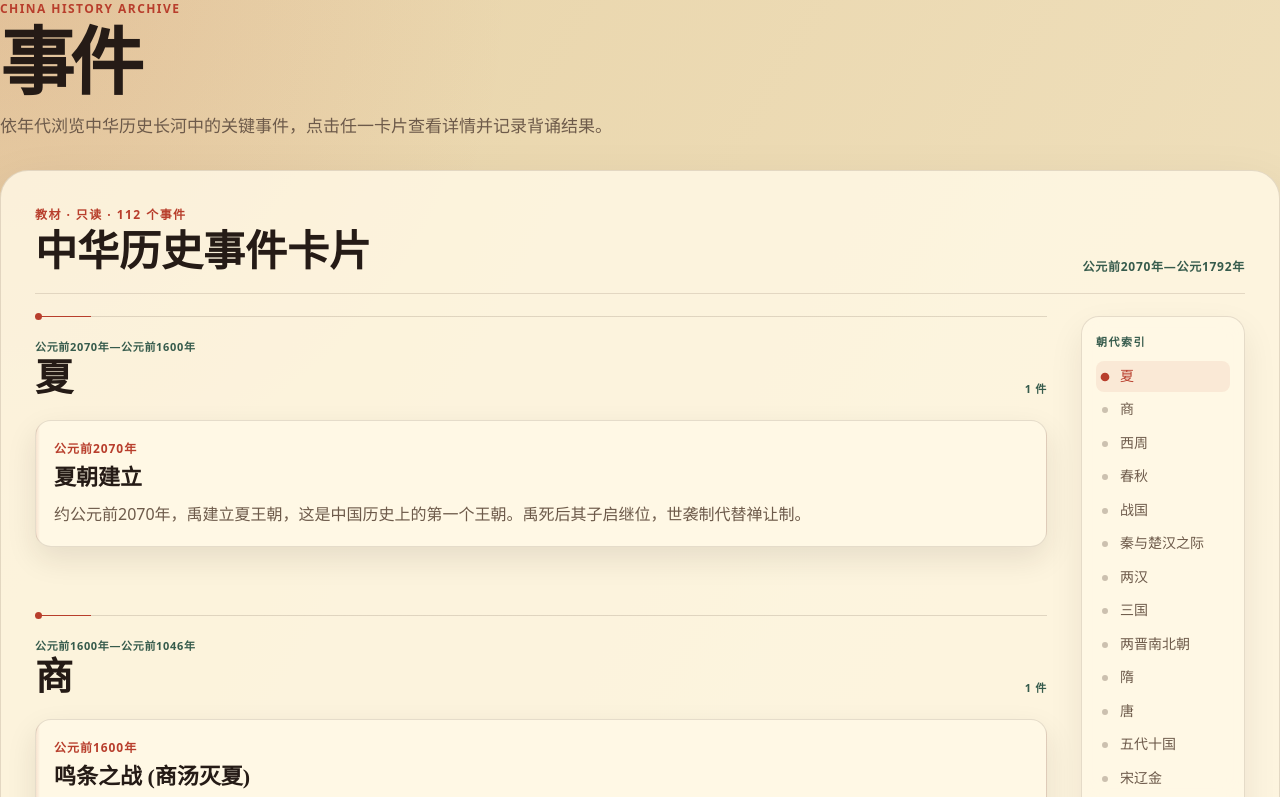
Test: EventListPage › 在详情中背诵事件并写入共享学习记录
The image size is (1280, 797).
Click the link that starts with "公元前2070年": (541, 483) [35,420,1047,547]
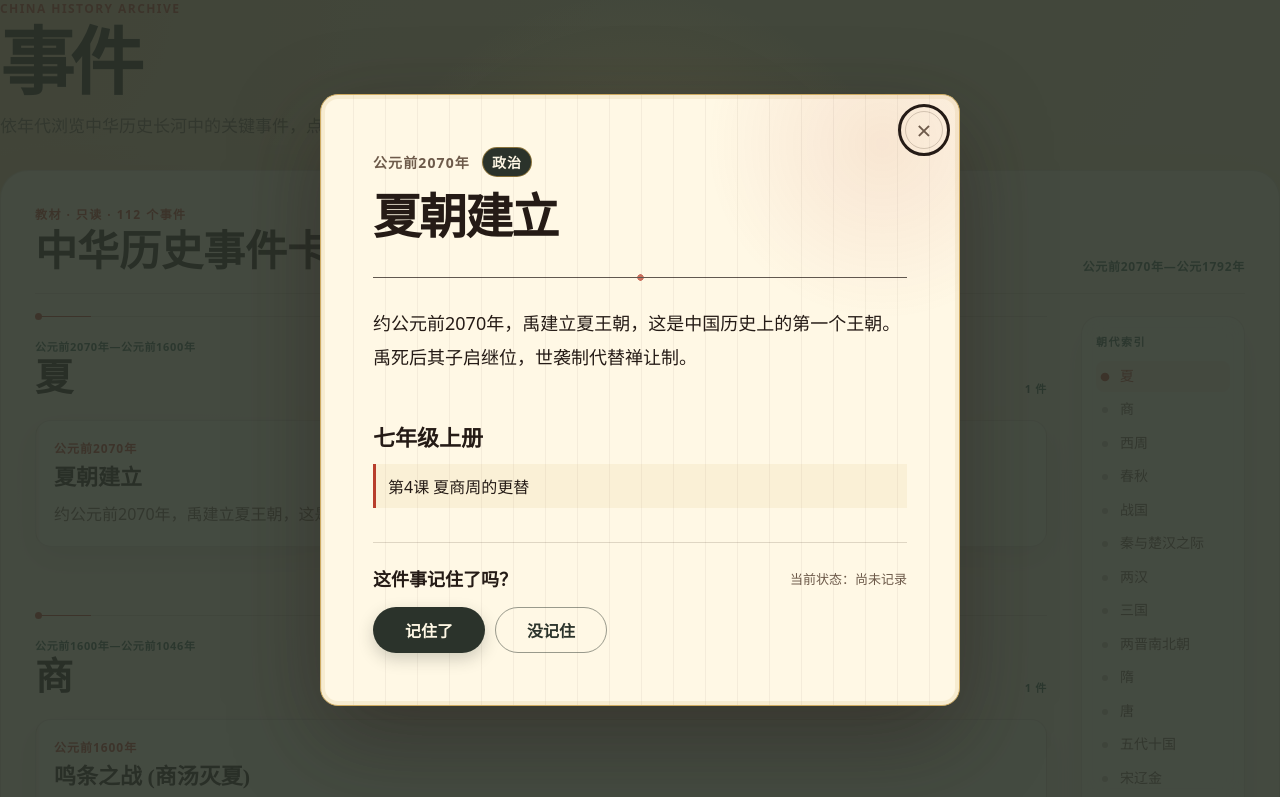
Click the button with test id "remembered": (429, 630) [373,607,485,653]
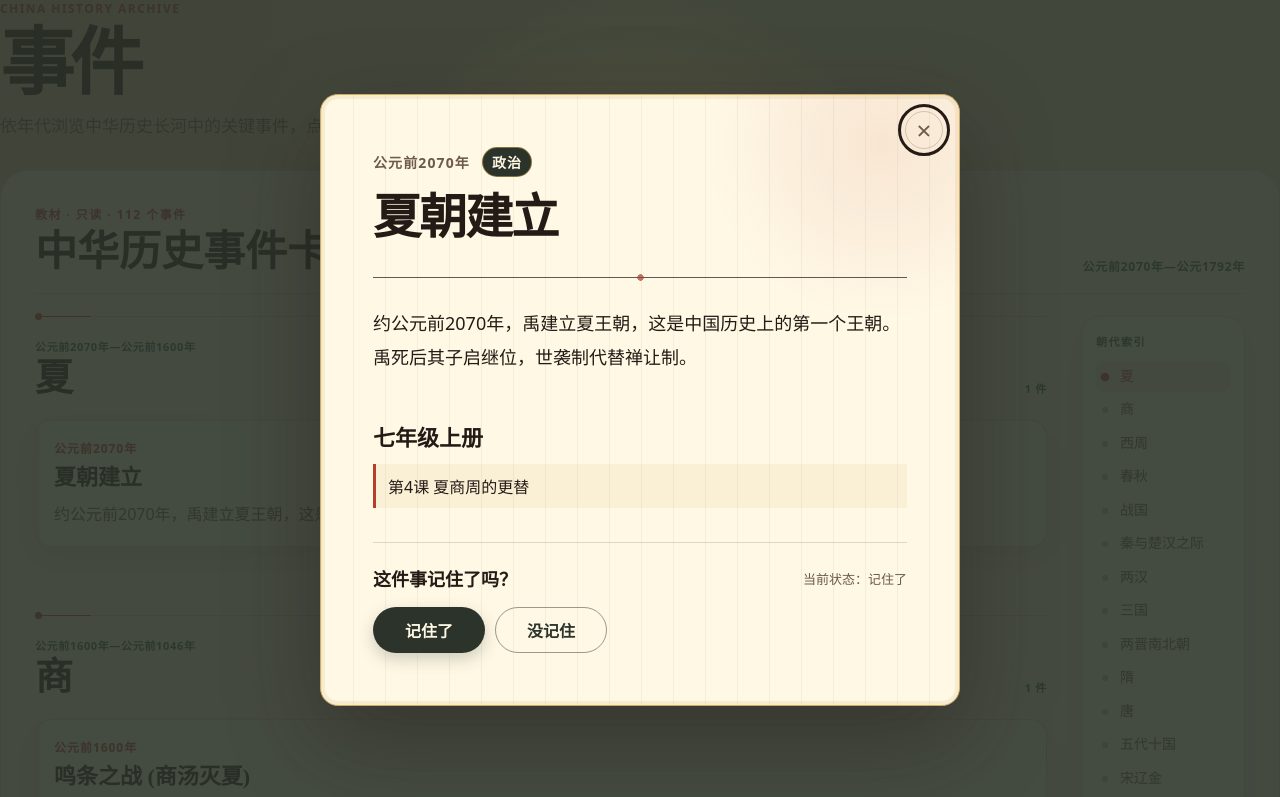
Expected: the text with test id "study-status" shows "记住了", [803,570,907,588]
